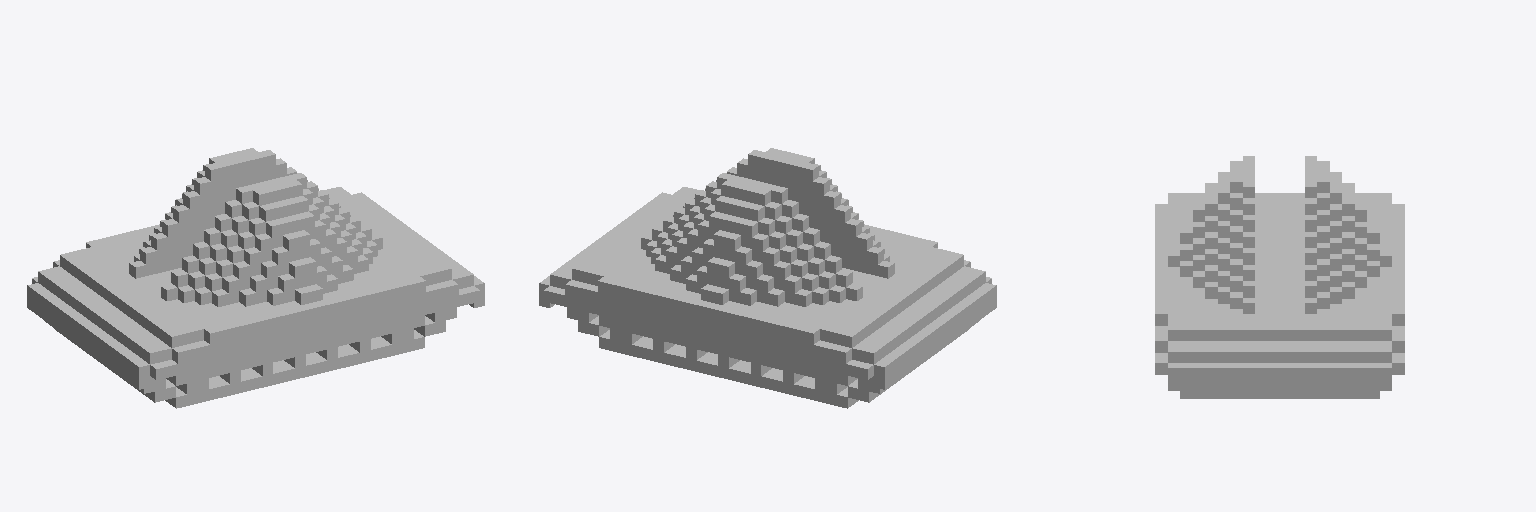
The model's file is VoidEdgeTank V1-1.obj.
3 views of the same model, side by side, from view 1: azimuth 30°, elevation 25°; view 2: azimuth 150°, elevation 25°; view 3: azimuth 270°, elevation 25° (orthographic).
Parts seen in each view (by area): view 1: object 1; view 2: object 1; view 3: object 1.
Boxes of the visible parts, box(x1,y1,x2,y2) form: object 1: box(27, 148, 484, 408); object 1: box(539, 148, 996, 408); object 1: box(1155, 156, 1404, 398).
Bounding box in the file's own units: 3.2 × 1.5 × 2.